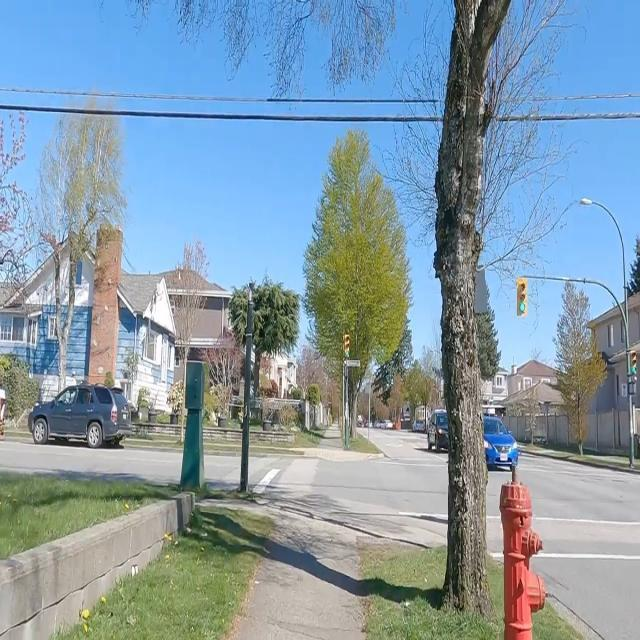Automobile: (28, 383, 131, 448), (483, 415, 519, 469), (427, 410, 447, 449)
Obstacle: (434, 0, 510, 616), (55, 508, 274, 639), (0, 493, 193, 639), (0, 472, 176, 558), (359, 545, 500, 639), (500, 466, 545, 639), (180, 355, 204, 489), (240, 282, 253, 491), (533, 606, 581, 639), (130, 424, 180, 447), (205, 426, 239, 451), (251, 429, 294, 446), (293, 430, 329, 446), (349, 433, 379, 451)
Road: (520, 454, 639, 639), (251, 427, 444, 535), (274, 430, 446, 546), (0, 438, 181, 483), (488, 471, 508, 552), (250, 455, 302, 476), (207, 456, 238, 484)
Sidewalk: (204, 495, 443, 640), (302, 420, 380, 460)
